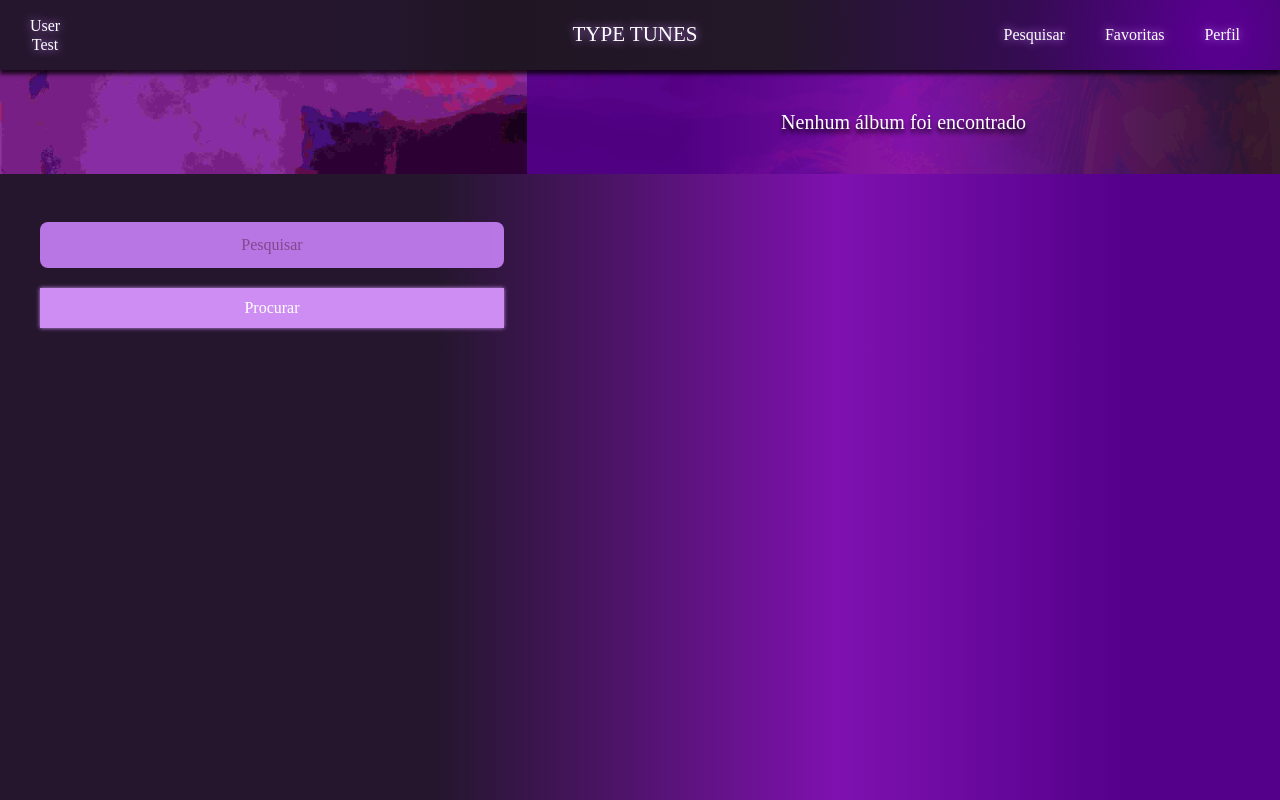
6 - Faça a requisição para pesquisar artistas › Será validado se ao receber o retorno da API, os álbuns são listados na tela
Type "Artist Name" into the field with test id "search-artist-input" at (272, 245), box [40,222,504,268]
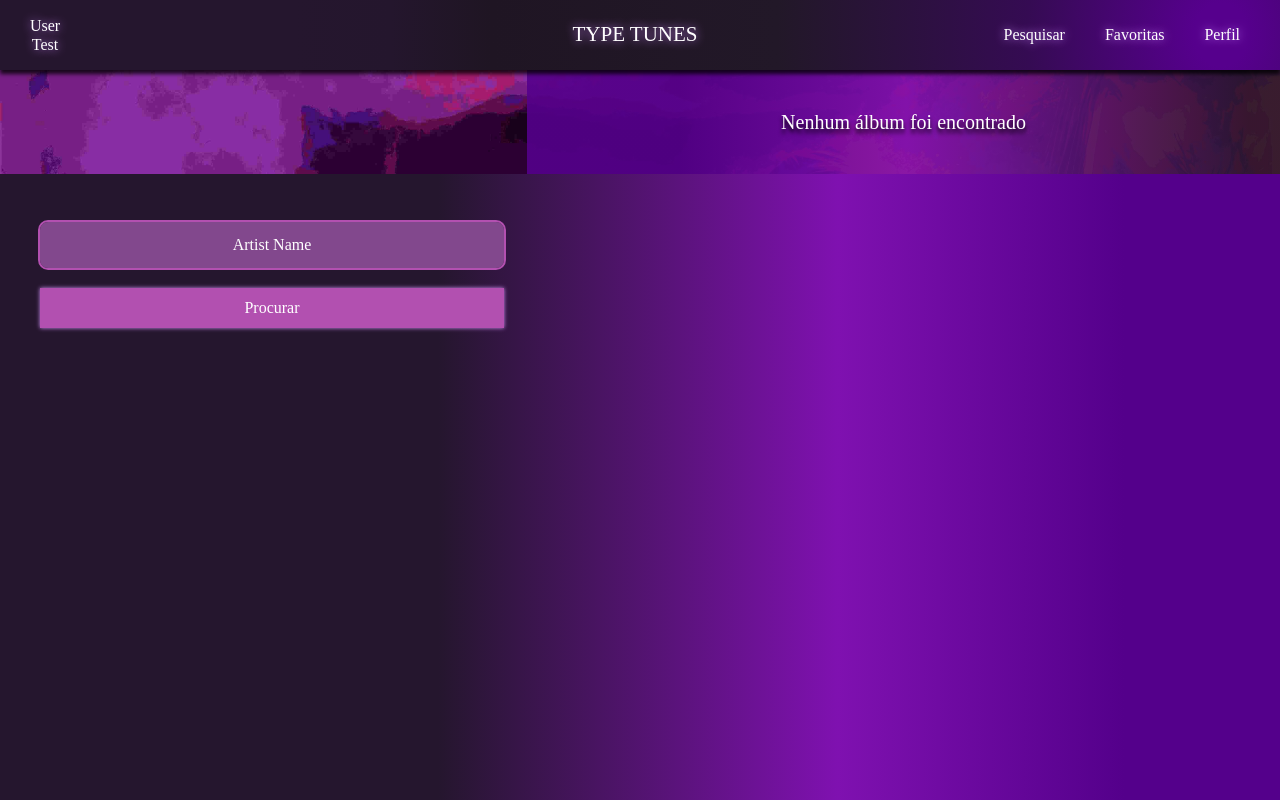
Click the button with test id "search-artist-button" at (272, 308), box [40,288,504,328]
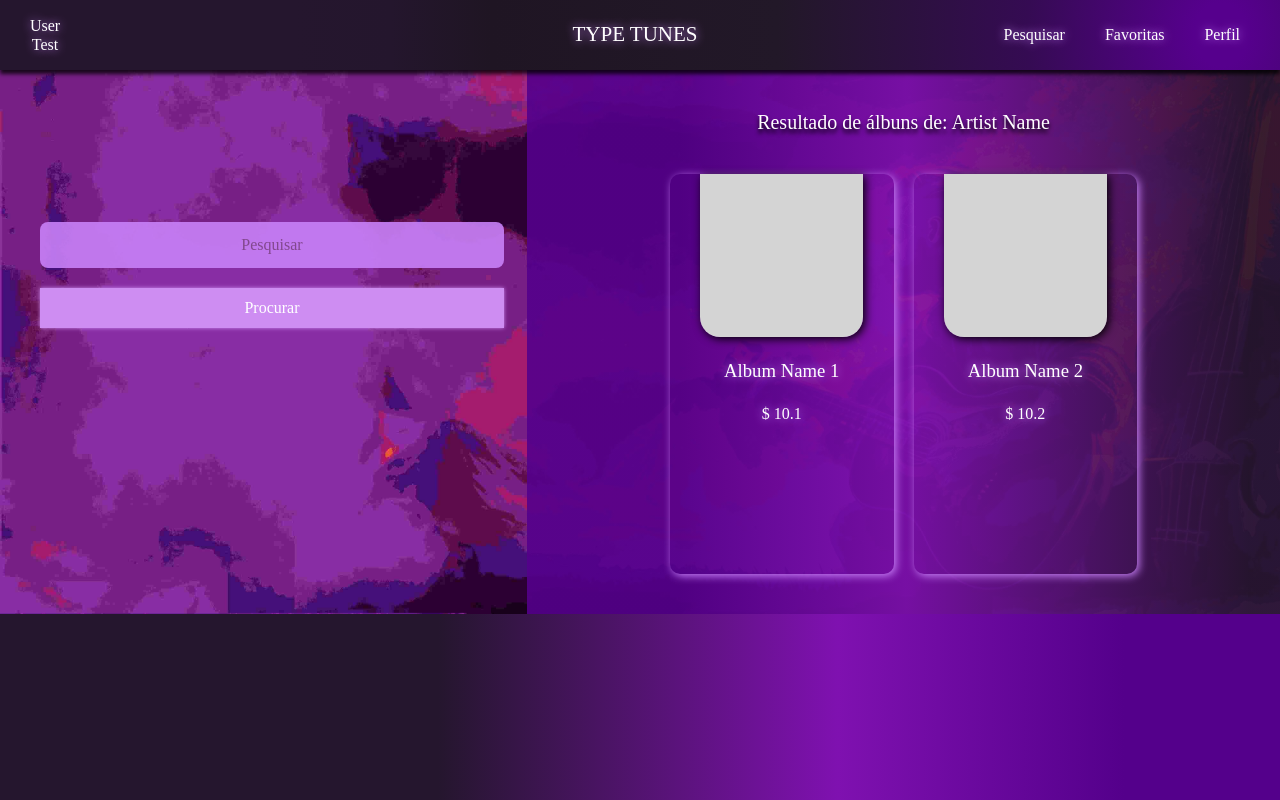
Expected: the heading "Album Name 1" is shown, [724,360,839,381]
Expected: the heading "Album Name 2" is shown, [968,360,1083,381]
Expected: the heading "Nenhum álbum foi encontrado" is gone
